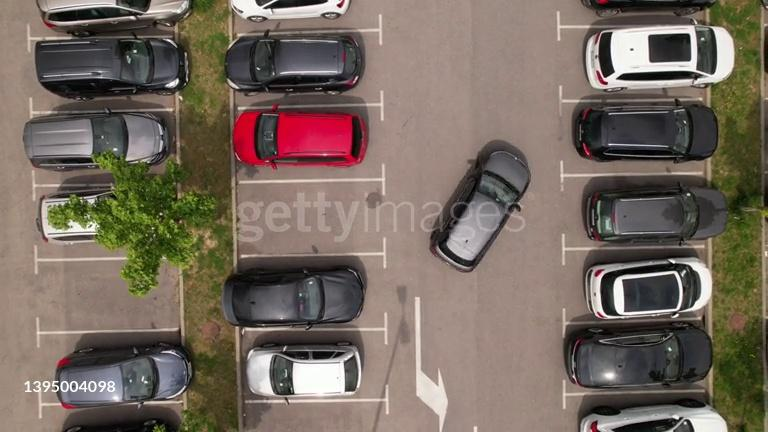car: (428, 145, 529, 270), (584, 22, 733, 91), (33, 37, 188, 98), (53, 342, 193, 408), (567, 324, 713, 387), (232, 107, 372, 171), (222, 266, 365, 327), (23, 111, 170, 170), (576, 102, 720, 161), (585, 182, 726, 242), (226, 33, 362, 94), (583, 255, 713, 318), (244, 340, 363, 396), (37, 0, 192, 34), (579, 398, 730, 430), (35, 188, 118, 242), (229, 0, 348, 22), (582, 0, 718, 17), (61, 416, 174, 431)
